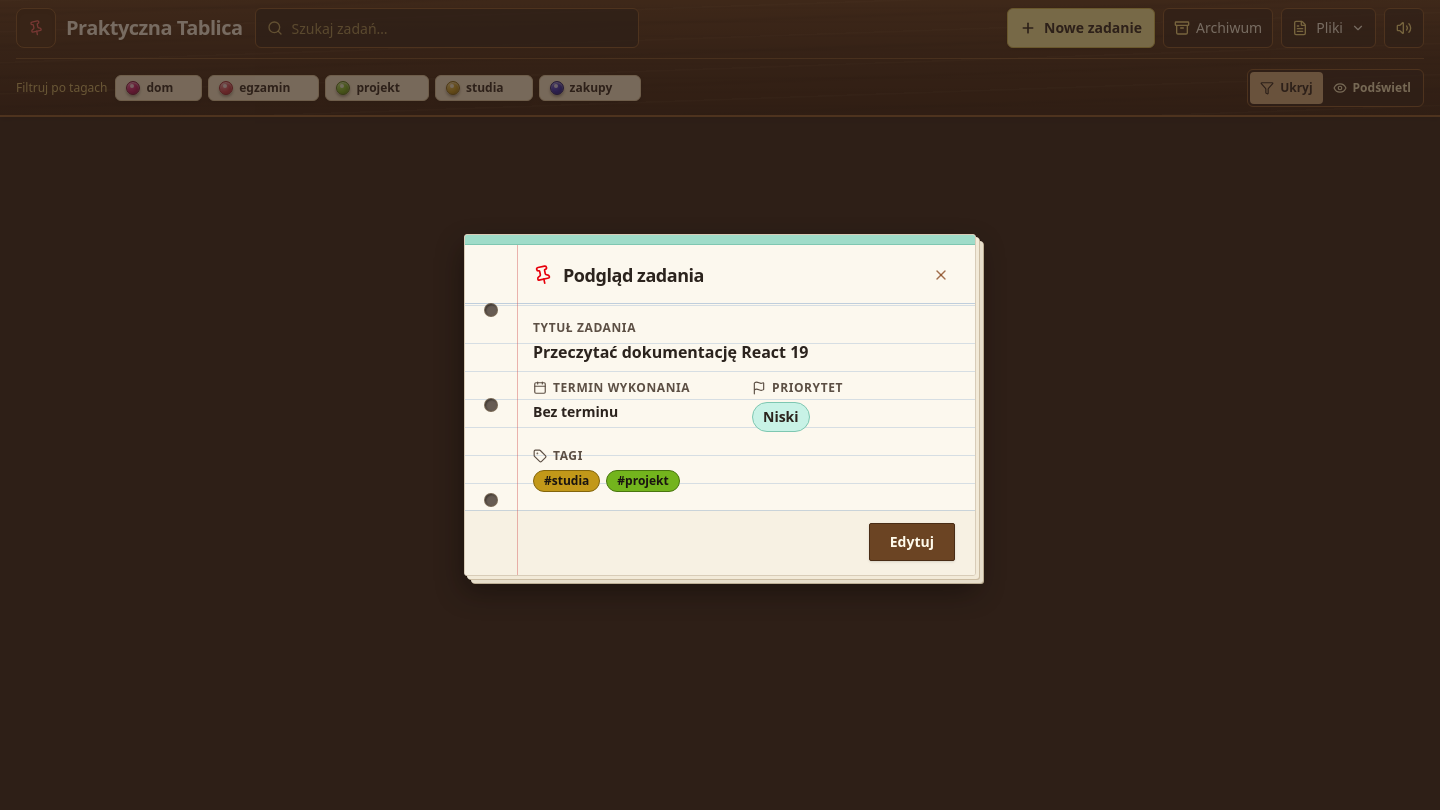
Test: Milestone M3 — TopBar, TaskModal, ContextMenu & Toast › TaskModal component › opens notes in read-only view and enters edit mode only after pressing Edytuj
Expected: the element with class "notebook-sheet" is shown, [464,234,976,576]
Expected: the text with test id "task-view-title" reads "Przeczytać dokumentację React 19", [533,341,808,363]
Step 1. Click the button with test id "task-btn-edit" → (912, 542), box [869,523,955,561]
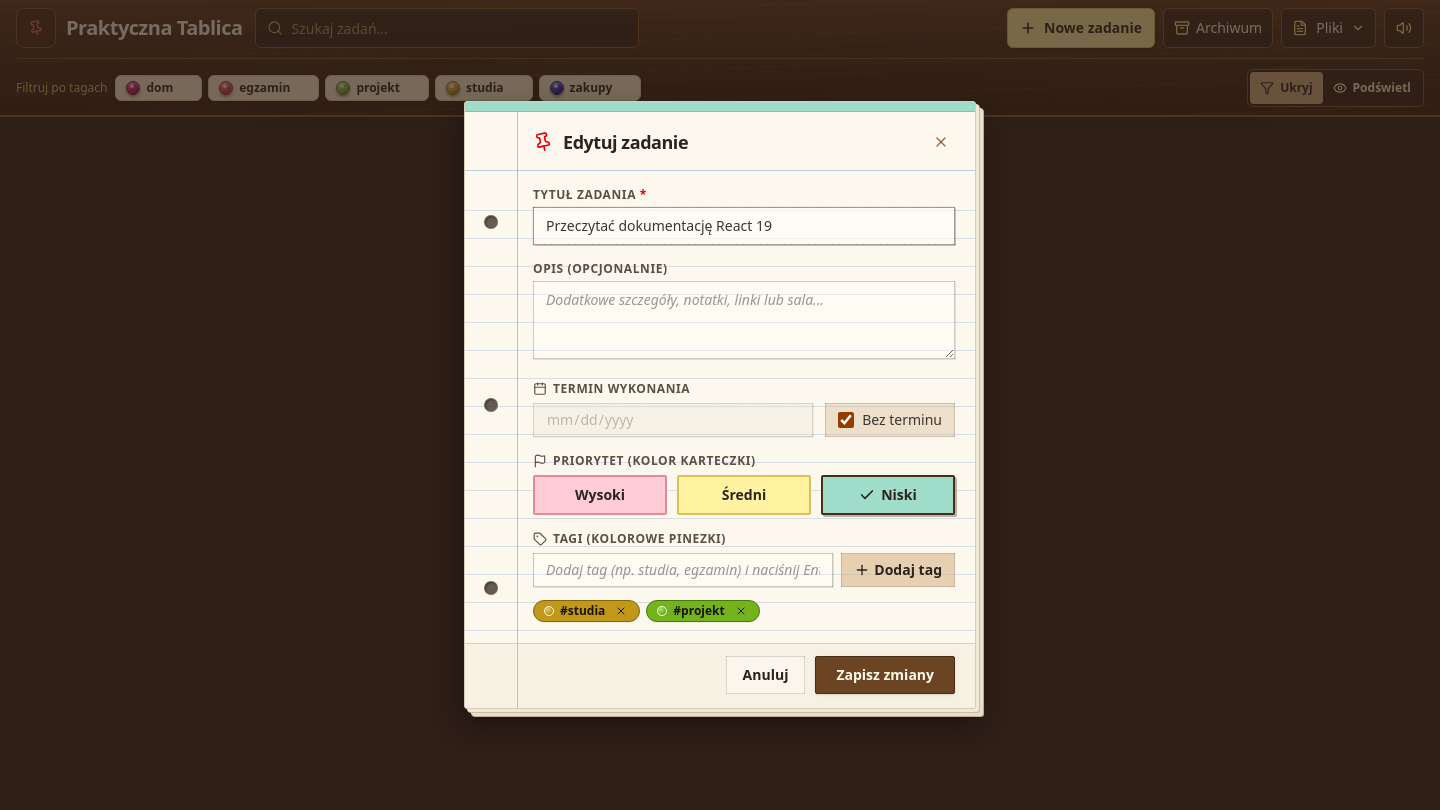
Result: the field with test id "task-input-title" holds "Przeczytać dokumentację React 19" at [533,207,955,245]
